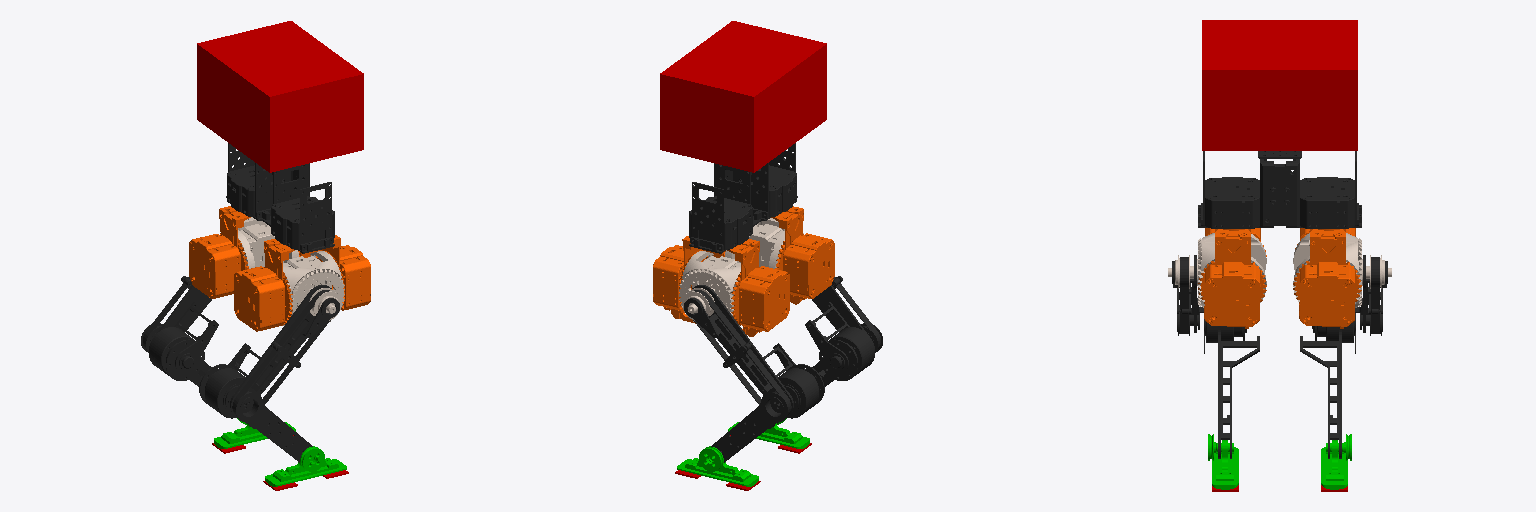
--- What the picture shows (computed from the rendered views, not written in the file) ---
3 views of the same robot in one strip: view 1: azimuth 30°, elevation 25°; view 2: azimuth 150°, elevation 25°; view 3: azimuth 270°, elevation 25° (orthographic).
Model hector_description with 18 links and 17 joints (10 revolute, 7 fixed), rooted at base, posed all joints at 0.
Links seen in each view (by area): view 1: body, trunk, R_thigh, R_hip, L_thigh, L_hip, R_hip2, R_toe, R_calf, L_hip2, L_toe; view 2: body, trunk, L_thigh, L_hip, R_thigh, R_hip, L_hip2, L_toe, L_calf, R_hip2, R_toe; view 3: body, trunk, L_hip, R_hip, L_thigh, R_thigh, R_calf, L_calf, R_hip2, L_hip2, L_toe, R_toe.
Boxes of the visible links, x1=… form: body: x1=197, y1=21, x2=363, y2=172; trunk: x1=226, y1=143, x2=334, y2=253; R_thigh: x1=199, y1=285, x2=339, y2=422; R_hip: x1=234, y1=235, x2=370, y2=331; L_thigh: x1=141, y1=276, x2=218, y2=380; L_hip: x1=189, y1=206, x2=321, y2=298; R_hip2: x1=283, y1=251, x2=344, y2=325; R_toe: x1=265, y1=446, x2=346, y2=486; R_calf: x1=211, y1=372, x2=312, y2=462; L_hip2: x1=238, y1=217, x2=298, y2=268; L_toe: x1=214, y1=418, x2=295, y2=448; body: x1=660, y1=21, x2=826, y2=172; trunk: x1=689, y1=143, x2=797, y2=253; L_thigh: x1=684, y1=285, x2=824, y2=422; L_hip: x1=653, y1=236, x2=789, y2=336; R_thigh: x1=805, y1=276, x2=882, y2=380; R_hip: x1=703, y1=206, x2=834, y2=304; L_hip2: x1=679, y1=251, x2=740, y2=325; L_toe: x1=677, y1=446, x2=758, y2=486; L_calf: x1=711, y1=372, x2=812, y2=462; R_hip2: x1=725, y1=218, x2=803, y2=268; R_toe: x1=728, y1=418, x2=809, y2=448; body: x1=1202, y1=20, x2=1357, y2=150; trunk: x1=1198, y1=151, x2=1361, y2=228; L_hip: x1=1293, y1=228, x2=1361, y2=328; R_hip: x1=1198, y1=228, x2=1266, y2=328; L_thigh: x1=1312, y1=255, x2=1387, y2=353; R_thigh: x1=1172, y1=255, x2=1246, y2=353; R_calf: x1=1218, y1=326, x2=1259, y2=458; L_calf: x1=1300, y1=330, x2=1341, y2=458; R_hip2: x1=1168, y1=233, x2=1266, y2=307; L_hip2: x1=1293, y1=233, x2=1391, y2=307; L_toe: x1=1321, y1=434, x2=1351, y2=489; R_toe: x1=1208, y1=434, x2=1238, y2=489.
Bounding box of the posed robot: 0.2113 × 0.25 × 0.5265 m (x, y, z).
11 mesh visuals loaded from 7 distinct referenced files (7 binary STL).

The robot description file, URDF, robot "hector_description":
<?xml version="1.0" ?>
<!-- =================================================================================== -->
<!-- |    This document was autogenerated by xacro from ./wwlambda_r2.xacro            | -->
<!-- |    EDITING THIS FILE BY HAND IS NOT RECOMMENDED                                 | -->
<!-- =================================================================================== -->
<robot name="hector_description">
  <material name="black">
    <color rgba="0.0 0.0 0.0 1.0"/>
  </material>
  <material name="blue">
    <color rgba="0.0 0.0 0.8 1.0"/>
  </material>
  <material name="green">
    <color rgba="0.0 0.8 0.0 1.0"/>
  </material>
  <material name="grey">
    <color rgba="0.2 0.2 0.2 1.0"/>
  </material>
  <material name="silver">
    <color rgba="0.9137254901960784 0.9137254901960784 0.8470588235294118 1.0"/>
  </material>
  <material name="orange">
    <color rgba="1.0 0.4235294117647059 0.0392156862745098 1.0"/>
  </material>
  <material name="brown">
    <color rgba="0.8705882352941177 0.8117647058823529 0.7647058823529411 1.0"/>
  </material>
  <material name="red">
    <color rgba="0.8 0.0 0.0 1.0"/>
  </material>
  <material name="white">
    <color rgba="1.0 1.0 1.0 1.0"/>
  </material>
  <!-- ros_control plugin -->
  <gazebo>
    <plugin filename="libgazebo_ros_control.so" name="gazebo_ros_control">
      <robotNamespace>/hector_gazebo</robotNamespace>
      <robotSimType>gazebo_ros_control/DefaultRobotHWSim</robotSimType>
    </plugin>
  </gazebo>
  <!-- Show the trajectory of trunk center. -->
  <gazebo>
    <plugin filename="libLinkPlot3DPlugin.so" name="3dplot">
      <frequency>10</frequency>
      <plot>
        <link>base</link>
        <pose>0 0 0 0 0 0</pose>
        <material>Gazebo/Yellow</material>
      </plot>
    </plugin>
  </gazebo>
  <gazebo>
    <plugin filename="libgazebo_ros_force.so" name="gazebo_ros_force">
      <bodyName>trunk</bodyName>
      <topicName>/apply_force/trunk</topicName>
    </plugin>
  </gazebo>
  <gazebo reference="imu_link">
    <gravity>true</gravity>
    <sensor name="imu_sensor" type="imu">
      <always_on>true</always_on>
      <update_rate>1000</update_rate>
      <visualize>true</visualize>
      <topic>__default_topic__</topic>
      <plugin filename="libgazebo_ros_imu_sensor.so" name="imu_plugin">
        <topicName>trunk_imu</topicName>
        <bodyName>imu_link</bodyName>
        <updateRateHZ>1000.0</updateRateHZ>
        <gaussianNoise>0.00</gaussianNoise>
        <xyzOffset>0 0 0</xyzOffset>
        <rpyOffset>0 0 0</rpyOffset>
        <frameName>imu_link</frameName>
      </plugin>
      <pose>0 0 0 0 0 0</pose>
    </sensor>
  </gazebo>
  <gazebo reference="base">
    <material>Gazebo/Green</material>
    <turnGravityOff>false</turnGravityOff>
  </gazebo>
  <gazebo reference="trunk">
    <mu1>0.2</mu1>
    <mu2>0.2</mu2>
    <material>Gazebo/DarkGrey</material>
  </gazebo>
  <gazebo reference="trunkcol">
    <mu1>0.2</mu1>
    <mu2>0.2</mu2>
  </gazebo>
  <gazebo reference="stick_link">
    <mu1>0.2</mu1>
    <mu2>0.2</mu2>
    <material>Gazebo/White</material>
  </gazebo>
  <gazebo reference="imu_link">
    <mu1>1</mu1>
    <mu2>1</mu2>
    <material>Gazebo/Red</material>
  </gazebo>
  <!-- L leg -->
  <gazebo reference="L_hip">
    <mu1>1</mu1>
    <mu2>1</mu2>
    <kp value="100000.0"/>
    <kd value="1000.0"/>
    <material>Gazebo/Grey</material>
  </gazebo>
  <gazebo reference="L_hip2">
    <mu1>1</mu1>
    <mu2>1</mu2>
    <kp value="100000.0"/>
    <kd value="1000.0"/>
    <material>Gazebo/Grey</material>
  </gazebo>
  <gazebo reference="L_thigh">
    <mu1>1</mu1>
    <mu2>1</mu2>
    <kp value="100000.0"/>
    <kd value="1000.0"/>
    <self_collide>0</self_collide>
    <material>Gazebo/Grey</material>
  </gazebo>
  <gazebo reference="L_calf">
    <mu1>1</mu1>
    <mu2>1</mu2>
    <kp value="100000.0"/>
    <kd value="1000.0"/>
    <self_collide>0</self_collide>
    <material>Gazebo/Grey</material>
  </gazebo>
  <gazebo reference="L_toe">
    <mu1>3</mu1>
    <mu2>3</mu2>
    <kp value="1000000.0"/>
    <kd value="1000.0"/>
    <self_collide>0</self_collide>
    <material>Gazebo/Grey</material>
  </gazebo>
  <gazebo reference="bumper_LF">
    <mu1>3</mu1>
    <mu2>3</mu2>
    <kp value="1000000.0"/>
    <kd value="1000.0"/>
    <self_collide>0</self_collide>
    <material>Gazebo/Red</material>
  </gazebo>
  <gazebo reference="bumper_LB">
    <mu1>3</mu1>
    <mu2>3</mu2>
    <kp value="1000000.0"/>
    <kd value="1000.0"/>
    <self_collide>0</self_collide>
    <material>Gazebo/Red</material>
  </gazebo>
  <!--R leg -->
  <gazebo reference="R_hip">
    <mu1>1</mu1>
    <mu2>1</mu2>
    <kp value="100000.0"/>
    <kd value="1000.0"/>
    <material>Gazebo/Grey</material>
  </gazebo>
  <gazebo reference="R_hip2">
    <mu1>1</mu1>
    <mu2>1</mu2>
    <kp value="100000.0"/>
    <kd value="1000.0"/>
    <material>Gazebo/Grey</material>
  </gazebo>
  <gazebo reference="R_thigh">
    <mu1>1</mu1>
    <mu2>1</mu2>
    <kp value="100000.0"/>
    <kd value="1000.0"/>
    <self_collide>0</self_collide>
    <material>Gazebo/Grey</material>
  </gazebo>
  <gazebo reference="R_calf">
    <mu1>1</mu1>
    <mu2>1</mu2>
    <kp value="100000.0"/>
    <kd value="1000.0"/>
    <self_collide>0</self_collide>
    <material>Gazebo/Grey</material>
  </gazebo>
  <gazebo reference="R_toe">
    <mu1>3</mu1>
    <mu2>3</mu2>
    <kp value="1000000.0"/>
    <kd value="1000.0"/>
    <self_collide>0</self_collide>
    <material>Gazebo/Grey</material>
  </gazebo>
  <gazebo reference="bumper_RF">
    <mu1>3</mu1>
    <mu2>3</mu2>
    <kp value="1000000.0"/>
    <kd value="1000.0"/>
    <self_collide>0</self_collide>
    <material>Gazebo/Red</material>
  </gazebo>
  <gazebo reference="bumper_RB">
    <mu1>3</mu1>
    <mu2>3</mu2>
    <kp value="1000000.0"/>
    <kd value="1000.0"/>
    <self_collide>0</self_collide>
    <material>Gazebo/Red</material>
  </gazebo>
  <link name="base">
    <visual>
      <origin rpy="0 0 0" xyz="0 0 0"/>
      <geometry>
        <box size="0.001 0.001 0.001"/>
      </geometry>
    </visual>
  </link>
  <joint name="floating_base" type="fixed">
    <!-- <origin rpy="0 0 0" xyz="0 0 -0.042"/> -->
    <origin rpy="0 0 0" xyz="0 0 -0.085"/>
    <parent link="base"/>
    <child link="trunk"/>
  </joint>
  <link name="trunk">
    <visual>
      <origin rpy="0 0 0" xyz="0 0 0"/>
      <geometry>
        <mesh filename="package://hector_description/meshes/wwlambda/ww_lambda_waist_r2.stl" scale="1 1 1"/>
      </geometry>
      <material name="grey"/>
    </visual>
    <collision>
      <origin rpy="0 0 0" xyz="0 0 0.107"/>
      <geometry>
        <box size="0.062 0.172 0.084"/>
      </geometry>
    </collision>
    <inertial>
      <origin rpy="0 0 0" xyz="0.001131 0 0.086906"/>
      <mass value="0.672"/>
      <inertia ixx="2193585.402e-9" ixy="-31.775e-9" ixz="-12830.536e-9" iyy="412257.108e-9" iyz="-30.175e-9" izz="2159649.914e-9"/>
    </inertial>
  </link>
  <joint name="body_joint" type="fixed">
    <parent link="trunk"/>
    <child link="body"/>
    <origin rpy="0 0 0" xyz="0 0 0.230"/>
  </joint>
  <link name="body">
    <inertial>
      <mass value="1.3"/>
      <origin rpy="0 0 0" xyz="0 0 0"/>
      <inertia ixx="3035947e-9" ixy="-1669e-9" ixz="2793e-9" iyy="2992228e-9" iyz="17720e-9" izz="3906372e-9"/>
    </inertial>
    <visual>
      <origin rpy="0 0 0" xyz="0 0 0"/>
      <geometry>
        <box size="0.130 0.174 0.100"/>
      </geometry>
      <material name="red"/>
    </visual>
    <collision>
      <origin rpy="0 0 0" xyz="0 0 0"/>
      <geometry>
        <box size="0.130 0.174 0.100"/>
      </geometry>
    </collision>
  </link>
  <joint name="imu_joint" type="fixed">
    <parent link="trunk"/>
    <child link="imu_link"/>
    <origin rpy="0 0 0" xyz="0 0 0"/>
  </joint>
  <link name="imu_link">
    <inertial>
      <mass value="0.001"/>
      <origin rpy="0 0 0" xyz="0 0 0"/>
      <inertia ixx="0.0001" ixy="0" ixz="0" iyy="0.000001" iyz="0" izz="0.0001"/>
    </inertial>
    <visual>
      <origin rpy="0 0 0" xyz="0 0 0"/>
      <geometry>
        <box size="0.001 0.001 0.001"/>
      </geometry>
      <material name="red"/>
    </visual>
    <collision>
      <origin rpy="0 0 0" xyz="0 0 0"/>
      <geometry>
        <box size=".001 .001 .001"/>
      </geometry>
    </collision>
  </link>
  <joint name="L_hip_joint" type="revolute">
    <origin rpy="0 0 0" xyz="0.0 0.053 0"/>
    <parent link="trunk"/>
    <child link="L_hip"/>
    <axis xyz="0 0 1"/>
    <dynamics damping="0.1" friction="0.0"/>
    <limit effort="10.0" lower="-3.14" upper="3.14" velocity="20"/>
  </joint>
  <link name="L_hip">
    <visual>
      <origin rpy="0.0 0 0" xyz="0 0 0"/>
      <geometry>
        <mesh filename="package://hector_description/meshes/wwlambda/ww_lambda_right_hip.stl" scale="1 1 1 "/>
      </geometry>
      <material name="orange"/>
    </visual>
    <collision>
      <origin rpy="0 0 0" xyz="0 0 0"/>
      <geometry>
        <box size="0.154 0.062 0.062"/>
      </geometry>
    </collision>
    <inertial>
      <origin rpy="0 0 0" xyz="0 0.000334 0.003935"/>
      <mass value="0.652898"/>
      <inertia ixx="534478.410e-9" ixy="192.291e-9" ixz="-1.325e-9" iyy="2262361.698e-9" iyz="5777.021e-9" izz="2094559.879e-9"/>
    </inertial>
  </link>
  <joint name="L_hip2_joint" type="revolute">
    <origin rpy="0 0 0" xyz="0 0 0"/>
    <parent link="L_hip"/>
    <child link="L_hip2"/>
    <axis xyz="1 0 0"/>
    <dynamics damping="0.1" friction="0.0"/>
    <limit effort="10.0" lower="-3.14" upper="3.14" velocity="20"/>
  </joint>
  <link name="L_hip2">
    <visual>
      <origin rpy="0 0 0" xyz="0 0 0"/>
      <geometry>
        <mesh filename="package://hector_description/meshes/wwlambda/ww_lambda_right_hip_joint_r2.stl" scale="1 -1 1 "/>
      </geometry>
      <material name="brown"/>
    </visual>
    <inertial>
      <origin rpy="0 0 0" xyz="0.0 0.0111622 -0.000255"/>
      <mass value="0.404998"/>
      <inertia ixx="289373.105e-9" ixy="43.945e-9" ixz="-31.242e-9" iyy="243507.837e-9" iyz="-1291.490e-9" izz="298143.715e-9"/>
    </inertial>
  </link>
  <joint name="L_thigh_joint" type="revolute">
    <origin rpy="0 0.785398163 0" xyz="0 0.040 0"/>
    <parent link="L_hip2"/>
    <child link="L_thigh"/>
    <axis xyz="0 1 0"/>
    <joint_properties damping="0.1" friction="0.0"/>
    <limit effort="10.0" lower="-3.14" upper="3.14" velocity="20"/>
  </joint>
  <link name="L_thigh">
    <visual>
      <origin rpy="0 0 0" xyz="0 0 0"/>
      <geometry>
        <mesh filename="package://hector_description/meshes/wwlambda/ww_lambda_right_thigh_r2.stl" scale="1 -1 1 "/>
      </geometry>
      <material name="grey"/>
    </visual>
    <collision>
      <origin rpy="0 0 0" xyz="0 0.011 -0.0762"/>
      <geometry>
        <box size="0.040 0.022 0.112"/>
      </geometry>
    </collision>
    <inertial>
      <origin rpy="0 0 0" xyz="0.00044 -0.016322 -0.134420"/>
      <mass value="0.366608"/>
      <inertia ixx="786472.731e-9" ixy="57.238e-9" ixz="333.551e-9" iyy="678521.016e-9" iyz="-166135.332e-9" izz="208660.299e-9"/>
    </inertial>
  </link>
  <joint name="L_calf_joint" type="revolute">
    <!-- <origin rpy="0 ${calf_angle} 0" xyz="0 -0.0038 -0.1524"/> -->
    <origin rpy="0 -1.570796327 0" xyz="0 -0.0238 -0.1524"/>
    <parent link="L_thigh"/>
    <child link="L_calf"/>
    <axis xyz="0 1 0"/>
    <joint_properties damping="0.1" friction="0.0"/>
    <limit effort="10.0" lower="-3.14" upper="3.14" velocity="20"/>
  </joint>
  <link name="L_calf">
    <visual>
      <origin rpy="0 0 0" xyz="0 0 0"/>
      <geometry>
        <mesh filename="package://hector_description/meshes/wwlambda/ww_lambda_right_shin_r2.stl" scale="1 -1 1 "/>
      </geometry>
      <material name="grey"/>
    </visual>
    <collision>
      <origin rpy="0 0 0" xyz="0 0.009 -0.0762"/>
      <geometry>
        <box size="0.030 0.024 0.112"/>
      </geometry>
    </collision>
    <inertial>
      <origin rpy="0 0 0" xyz="0.0 -0.007683 -0.078768"/>
      <mass value="0.056674"/>
      <inertia ixx="165297.155e-9" ixy="-0.046e-9" ixz="-0.870e-9" iyy="162576.784e-9" iyz="222.311e-9" izz="8384.868e-9"/>
    </inertial>
  </link>
  <joint name="L_toe_joint" type="revolute">
    <origin rpy="0 0.785398163 0" xyz="0 -0.0079 -0.1524"/>
    <parent link="L_calf"/>
    <child link="L_toe"/>
    <axis xyz="0 1 0"/>
    <joint_properties damping="0.1" friction="0.0"/>
    <limit effort="4.0" lower="-1.75" upper="1.75" velocity="20"/>
  </joint>
  <link name="L_toe">
    <visual>
      <origin rpy="0 0 0" xyz="0 0 0"/>
      <geometry>
        <mesh filename="package://hector_description/meshes/wwlambda/ww_lambda_left_foot.stl" scale="1 1 1 "/>
      </geometry>
      <material name="green"/>
    </visual>
    <collision>
      <origin rpy="0 0 0" xyz="0 0 -0.023"/>
      <geometry>
        <box size="0.100 0.030 0.012"/>
      </geometry>
    </collision>
    <inertial>
      <origin rpy="0 0 0" xyz="0 0.001619 -0.016022"/>
      <mass value="0.049085"/>
      <!-- <inertia ixx="7532.090e-9" 
                     ixy="-0.005e-9" iyy="28428.656e-9" 
                     ixz="0.037e-9" iyz="-1279.852e-9" izz="25997.217e-9"/> -->
      <!-- バタつくのでHECTORの足データを持ってきた -->
      <!-- <mass value="${toe_mass}"/> -->
      <inertia ixx="5.7298e-05" ixy="0.0" ixz="0.0" iyy="0.000290752" iyz="0.0" izz="0.000249491"/>
    </inertial>
  </link>
  <joint name="R_hip_joint" type="revolute">
    <origin rpy="0 0 0" xyz="0.0 -0.053 0"/>
    <parent link="trunk"/>
    <child link="R_hip"/>
    <axis xyz="0 0 1"/>
    <dynamics damping="0.1" friction="0.0"/>
    <limit effort="10.0" lower="-3.14" upper="3.14" velocity="20"/>
  </joint>
  <link name="R_hip">
    <visual>
      <origin rpy="0.0 0 0" xyz="0 0 0"/>
      <geometry>
        <mesh filename="package://hector_description/meshes/wwlambda/ww_lambda_right_hip.stl" scale="1 1 1"/>
      </geometry>
      <material name="orange"/>
    </visual>
    <collision>
      <origin rpy="0 0 0" xyz="0 0 0"/>
      <geometry>
        <box size="0.154 0.062 0.062"/>
      </geometry>
    </collision>
    <inertial>
      <origin rpy="0 0 0" xyz="0 0.000334 0.003935"/>
      <mass value="0.652898"/>
      <inertia ixx="534478.410e-9" ixy="192.291e-9" ixz="-1.325e-9" iyy="2262361.698e-9" iyz="5777.021e-9" izz="2094559.879e-9"/>
    </inertial>
  </link>
  <joint name="R_hip2_joint" type="revolute">
    <origin rpy="0 0 0" xyz="0 0 0"/>
    <parent link="R_hip"/>
    <child link="R_hip2"/>
    <axis xyz="1 0 0"/>
    <dynamics damping="0.1" friction="0.0"/>
    <limit effort="10.0" lower="-3.14" upper="3.14" velocity="20"/>
  </joint>
  <link name="R_hip2">
    <visual>
      <origin rpy="0 0 0" xyz="0 0 0"/>
      <geometry>
        <mesh filename="package://hector_description/meshes/wwlambda/ww_lambda_right_hip_joint_r2.stl" scale="1 1 1"/>
      </geometry>
      <material name="brown"/>
    </visual>
    <inertial>
      <origin rpy="0 0 0" xyz="0.0 -0.0111622 -0.000255"/>
      <mass value="0.404998"/>
      <inertia ixx="289373.105e-9" ixy="-43.945e-9" ixz="-31.242e-9" iyy="243507.837e-9" iyz="1291.490e-9" izz="298143.715e-9"/>
    </inertial>
  </link>
  <joint name="R_thigh_joint" type="revolute">
    <origin rpy="0 0.785398163 0" xyz="0 -0.040 0"/>
    <parent link="R_hip2"/>
    <child link="R_thigh"/>
    <axis xyz="0 1 0"/>
    <joint_properties damping="0.1" friction="0.0"/>
    <limit effort="10.0" lower="-3.14" upper="3.14" velocity="20"/>
  </joint>
  <link name="R_thigh">
    <visual>
      <origin rpy="0 0 0" xyz="0 0 0"/>
      <geometry>
        <mesh filename="package://hector_description/meshes/wwlambda/ww_lambda_right_thigh_r2.stl" scale="1 1 1"/>
      </geometry>
      <material name="grey"/>
    </visual>
    <collision>
      <origin rpy="0 0 0" xyz="0 -0.011 -0.0762"/>
      <geometry>
        <box size="0.040 0.022 0.112"/>
      </geometry>
    </collision>
    <inertial>
      <origin rpy="0 0 0" xyz="0.00044 0.016322 -0.134420"/>
      <mass value="0.366608"/>
      <inertia ixx="786472.731e-9" ixy="-57.238e-9" ixz="333.551e-9" iyy="678521.016e-9" iyz="166135.332e-9" izz="208660.299e-9"/>
    </inertial>
  </link>
  <joint name="R_calf_joint" type="revolute">
    <!-- <origin rpy="0 ${calf_angle} 0" xyz="0 0.0038 -0.1524"/> -->
    <origin rpy="0 -1.570796327 0" xyz="0 0.0238 -0.1524"/>
    <parent link="R_thigh"/>
    <child link="R_calf"/>
    <axis xyz="0 1 0"/>
    <joint_properties damping="0.1" friction="0.0"/>
    <limit effort="10.0" lower="-3.14" upper="3.14" velocity="20"/>
  </joint>
  <link name="R_calf">
    <visual>
      <origin rpy="0 0 0" xyz="0 0 0"/>
      <geometry>
        <mesh filename="package://hector_description/meshes/wwlambda/ww_lambda_right_shin_r2.stl" scale="1 1 1"/>
      </geometry>
      <material name="grey"/>
    </visual>
    <collision>
      <origin rpy="0 0 0" xyz="0 -0.009 -0.0762"/>
      <geometry>
        <box size="0.030 0.024 0.112"/>
      </geometry>
    </collision>
    <inertial>
      <origin rpy="0 0 0" xyz="0.0 0.007683 -0.078768"/>
      <mass value="0.056674"/>
      <inertia ixx="165297.155e-9" ixy="0.046e-9" ixz="-0.870e-9" iyy="162576.784e-9" iyz="-222.311e-9" izz="8384.868e-9"/>
    </inertial>
  </link>
  <joint name="R_toe_joint" type="revolute">
    <origin rpy="0 0.785398163 0" xyz="0 0.0079 -0.1524"/>
    <parent link="R_calf"/>
    <child link="R_toe"/>
    <axis xyz="0 1 0"/>
    <joint_properties damping="0.1" friction="0.0"/>
    <limit effort="4.0" lower="-1.75" upper="1.75" velocity="20"/>
  </joint>
  <link name="R_toe">
    <visual>
      <origin rpy="0 0 0" xyz="0 0 0"/>
      <geometry>
        <mesh filename="package://hector_description/meshes/wwlambda/ww_lambda_right_foot.stl" scale="1 1 1"/>
      </geometry>
      <material name="green"/>
    </visual>
    <collision>
      <origin rpy="0 0 0" xyz="0 0 -0.023"/>
      <geometry>
        <box size="0.100 0.030 0.012"/>
      </geometry>
    </collision>
    <inertial>
      <origin rpy="0 0 0" xyz="0 -0.001757 -0.01608"/>
      <mass value="0.052588"/>
      <!-- <inertia ixx="8207.198e-9" 
                     ixy="-0.005e-9" iyy="31374.088e-9" 
                     ixz="-0.037e-9" iyz="1491.969e-9" izz="28656.920e-9"/> -->
      <!-- バタつくのでHECTORの足データを持ってきた -->
      <!-- <mass value="${toe_mass}"/> -->
      <inertia ixx="5.7298e-05" ixy="0.0" ixz="0.0" iyy="0.000290752" iyz="0.0" izz="0.000249491"/>
    </inertial>
  </link>
  <transmission name="L_hip_tran">
    <type>transmission_interface/SimpleTransmission</type>
    <joint name="L_hip_joint">
      <hardwareInterface>hardware_interface/EffortJointInterface</hardwareInterface>
    </joint>
    <actuator name="L_hip_motor">
      <hardwareInterface>hardware_interface/EffortJointInterface</hardwareInterface>
      <mechanicalReduction>1</mechanicalReduction>
    </actuator>
  </transmission>
  <transmission name="L_hip2_tran">
    <type>transmission_interface/SimpleTransmission</type>
    <joint name="L_hip2_joint">
      <hardwareInterface>hardware_interface/EffortJointInterface</hardwareInterface>
    </joint>
    <actuator name="L_hip2_motor">
      <hardwareInterface>hardware_interface/EffortJointInterface</hardwareInterface>
      <mechanicalReduction>1</mechanicalReduction>
    </actuator>
  </transmission>
  <transmission name="L_thigh_tran">
    <type>transmission_interface/SimpleTransmission</type>
    <joint name="L_thigh_joint">
      <hardwareInterface>hardware_interface/EffortJointInterface</hardwareInterface>
    </joint>
    <actuator name="L_thigh_motor">
      <hardwareInterface>hardware_interface/EffortJointInterface</hardwareInterface>
      <mechanicalReduction>1</mechanicalReduction>
    </actuator>
  </transmission>
  <transmission name="L_calf_tran">
    <type>transmission_interface/SimpleTransmission</type>
    <joint name="L_calf_joint">
      <hardwareInterface>hardware_interface/EffortJointInterface</hardwareInterface>
    </joint>
    <actuator name="L_calf_motor">
      <hardwareInterface>hardware_interface/EffortJointInterface</hardwareInterface>
      <mechanicalReduction>1</mechanicalReduction>
    </actuator>
  </transmission>
  <transmission name="L_toe_tran">
    <type>transmission_interface/SimpleTransmission</type>
    <joint name="L_toe_joint">
      <hardwareInterface>hardware_interface/EffortJointInterface</hardwareInterface>
    </joint>
    <actuator name="L_toe_motor">
      <hardwareInterface>hardware_interface/EffortJointInterface</hardwareInterface>
      <mechanicalReduction>1</mechanicalReduction>
    </actuator>
  </transmission>
  <transmission name="R_hip_tran">
    <type>transmission_interface/SimpleTransmission</type>
    <joint name="R_hip_joint">
      <hardwareInterface>hardware_interface/EffortJointInterface</hardwareInterface>
    </joint>
    <actuator name="R_hip_motor">
      <hardwareInterface>hardware_interface/EffortJointInterface</hardwareInterface>
      <mechanicalReduction>1</mechanicalReduction>
    </actuator>
  </transmission>
  <transmission name="R_hip2_tran">
    <type>transmission_interface/SimpleTransmission</type>
    <joint name="R_hip2_joint">
      <hardwareInterface>hardware_interface/EffortJointInterface</hardwareInterface>
    </joint>
    <actuator name="R_hip2_motor">
      <hardwareInterface>hardware_interface/EffortJointInterface</hardwareInterface>
      <mechanicalReduction>1</mechanicalReduction>
    </actuator>
  </transmission>
  <transmission name="R_thigh_tran">
    <type>transmission_interface/SimpleTransmission</type>
    <joint name="R_thigh_joint">
      <hardwareInterface>hardware_interface/EffortJointInterface</hardwareInterface>
    </joint>
    <actuator name="R_thigh_motor">
      <hardwareInterface>hardware_interface/EffortJointInterface</hardwareInterface>
      <mechanicalReduction>1</mechanicalReduction>
    </actuator>
  </transmission>
  <transmission name="R_calf_tran">
    <type>transmission_interface/SimpleTransmission</type>
    <joint name="R_calf_joint">
      <hardwareInterface>hardware_interface/EffortJointInterface</hardwareInterface>
    </joint>
    <actuator name="R_calf_motor">
      <hardwareInterface>hardware_interface/EffortJointInterface</hardwareInterface>
      <mechanicalReduction>1</mechanicalReduction>
    </actuator>
  </transmission>
  <transmission name="R_toe_tran">
    <type>transmission_interface/SimpleTransmission</type>
    <joint name="R_toe_joint">
      <hardwareInterface>hardware_interface/EffortJointInterface</hardwareInterface>
    </joint>
    <actuator name="R_toe_motor">
      <hardwareInterface>hardware_interface/EffortJointInterface</hardwareInterface>
      <mechanicalReduction>1</mechanicalReduction>
    </actuator>
  </transmission>
  <link name="bumper_LF">
    <visual>
      <origin rpy="0 0 0" xyz="0 0 0"/>
      <geometry>
        <box size="0.03 0.03 0.002"/>
      </geometry>
      <material name="red"/>
    </visual>
    <collision name="bumper_LF_collision">
      <origin rpy="0 0 0" xyz="0 0 0"/>
      <geometry name="bumper_LF_collision">
        <box size="0.028999999999999998 0.028999999999999998 0.001"/>
      </geometry>
    </collision>
    <inertial>
      <origin rpy="0 0 0" xyz="0 0 0"/>
      <mass value="0.001"/>
      <inertia ixx="1e-9" ixy="0" ixz="0" iyy="1e-9" iyz="0" izz="1e-9"/>
    </inertial>
  </link>
  <joint name="LF_bumper" type="fixed">
    <parent link="L_toe"/>
    <child link="bumper_LF"/>
    <origin rpy="0 0 0" xyz="0.035 0 -0.030000000000000002"/>
  </joint>
  <gazebo reference="bumper_LF">
    <material>Gazebo/Red</material>
    <selfCollide>true</selfCollide>
    <sensor name="bumper_LF_sensor" type="contact">
      <contact>
        <collision>L_toe_fixed_joint_lump__bumper_LF_collision_collision_2</collision>
      </contact>
      <plugin filename="libgazebo_ros_bumper.so" name="gazebo_ros_bumper_controller">
        <alwaysOn>true</alwaysOn>
        <updateRate>10.0</updateRate>
        <bumperTopicName>bumper_LF</bumperTopicName>
        <frameName>world</frameName>
      </plugin>
    </sensor>
  </gazebo>
  <link name="bumper_LB">
    <visual>
      <origin rpy="0 0 0" xyz="0 0 0"/>
      <geometry>
        <box size="0.03 0.03 0.002"/>
      </geometry>
      <material name="red"/>
    </visual>
    <collision name="bumper_LB_collision">
      <origin rpy="0 0 0" xyz="0 0 0"/>
      <geometry name="bumper_LB_collision">
        <box size="0.028999999999999998 0.028999999999999998 0.001"/>
      </geometry>
    </collision>
    <inertial>
      <origin rpy="0 0 0" xyz="0 0 0"/>
      <mass value="0.001"/>
      <inertia ixx="1e-9" ixy="0" ixz="0" iyy="1e-9" iyz="0" izz="1e-9"/>
    </inertial>
  </link>
  <joint name="LB_bumper" type="fixed">
    <parent link="L_toe"/>
    <child link="bumper_LB"/>
    <origin rpy="0 0 0" xyz="-0.035 0 -0.030000000000000002"/>
  </joint>
  <gazebo reference="bumper_LB">
    <material>Gazebo/Red</material>
    <selfCollide>true</selfCollide>
    <sensor name="bumper_LB_sensor" type="contact">
      <contact>
        <collision>L_toe_fixed_joint_lump__bumper_LB_collision_collision_1</collision>
      </contact>
      <plugin filename="libgazebo_ros_bumper.so" name="gazebo_ros_bumper_controller">
        <alwaysOn>true</alwaysOn>
        <updateRate>10.0</updateRate>
        <bumperTopicName>bumper_LB</bumperTopicName>
        <frameName>world</frameName>
      </plugin>
    </sensor>
  </gazebo>
  <link name="bumper_RF">
    <visual>
      <origin rpy="0 0 0" xyz="0 0 0"/>
      <geometry>
        <box size="0.03 0.03 0.002"/>
      </geometry>
      <material name="red"/>
    </visual>
    <collision name="bumper_RF_collision">
      <origin rpy="0 0 0" xyz="0 0 0"/>
      <geometry name="bumper_RF_collision">
        <box size="0.028999999999999998 0.028999999999999998 0.001"/>
      </geometry>
    </collision>
    <inertial>
      <origin rpy="0 0 0" xyz="0 0 0"/>
      <mass value="0.001"/>
      <inertia ixx="1e-9" ixy="0" ixz="0" iyy="1e-9" iyz="0" izz="1e-9"/>
    </inertial>
  </link>
  <joint name="RF_bumper" type="fixed">
    <parent link="R_toe"/>
    <child link="bumper_RF"/>
    <origin rpy="0 0 0" xyz="0.035 0 -0.030000000000000002"/>
  </joint>
  <gazebo reference="bumper_RF">
    <material>Gazebo/Red</material>
    <selfCollide>true</selfCollide>
    <sensor name="bumper_RF_sensor" type="contact">
      <contact>
        <collision>R_toe_fixed_joint_lump__bumper_RF_collision_collision_2</collision>
      </contact>
      <plugin filename="libgazebo_ros_bumper.so" name="gazebo_ros_bumper_controller">
        <alwaysOn>true</alwaysOn>
        <updateRate>10.0</updateRate>
        <bumperTopicName>bumper_RF</bumperTopicName>
        <frameName>world</frameName>
      </plugin>
    </sensor>
  </gazebo>
  <link name="bumper_RB">
    <visual>
      <origin rpy="0 0 0" xyz="0 0 0"/>
      <geometry>
        <box size="0.03 0.03 0.002"/>
      </geometry>
      <material name="red"/>
    </visual>
    <collision name="bumper_RB_collision">
      <origin rpy="0 0 0" xyz="0 0 0"/>
      <geometry name="bumper_RB_collision">
        <box size="0.028999999999999998 0.028999999999999998 0.001"/>
      </geometry>
    </collision>
    <inertial>
      <origin rpy="0 0 0" xyz="0 0 0"/>
      <mass value="0.001"/>
      <inertia ixx="1e-9" ixy="0" ixz="0" iyy="1e-9" iyz="0" izz="1e-9"/>
    </inertial>
  </link>
  <joint name="RB_bumper" type="fixed">
    <parent link="R_toe"/>
    <child link="bumper_RB"/>
    <origin rpy="0 0 0" xyz="-0.035 0 -0.030000000000000002"/>
  </joint>
  <gazebo reference="bumper_RB">
    <material>Gazebo/Red</material>
    <selfCollide>true</selfCollide>
    <sensor name="bumper_RB_sensor" type="contact">
      <contact>
        <collision>R_toe_fixed_joint_lump__bumper_RB_collision_collision_1</collision>
      </contact>
      <plugin filename="libgazebo_ros_bumper.so" name="gazebo_ros_bumper_controller">
        <alwaysOn>true</alwaysOn>
        <updateRate>10.0</updateRate>
        <bumperTopicName>bumper_RB</bumperTopicName>
        <frameName>world</frameName>
      </plugin>
    </sensor>
  </gazebo>
  <!-- <xacro:stairs stairs="15" xpos="0" ypos="2.0" zpos="0" /> -->
</robot>
